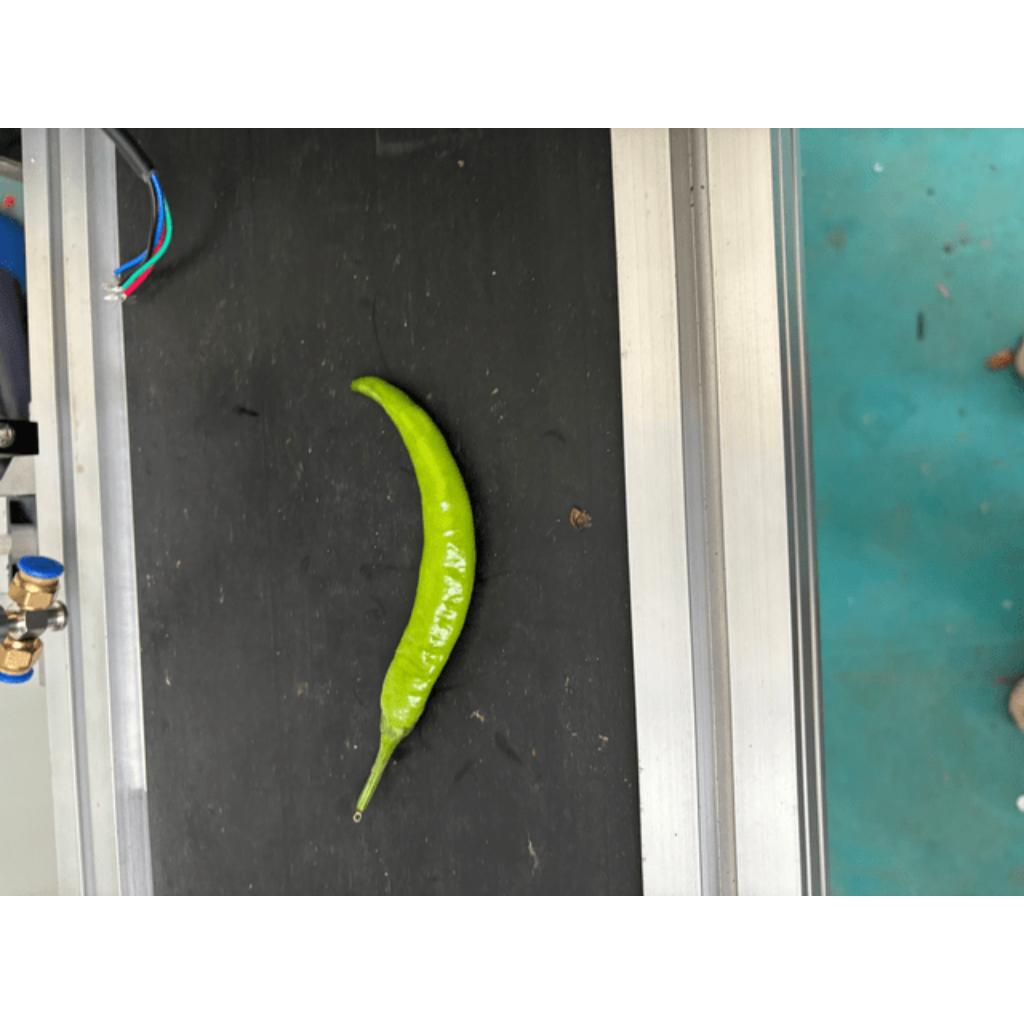chili: (350, 378, 480, 749)
